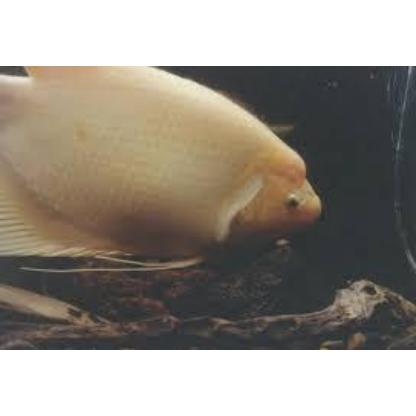gurame: (0, 64, 324, 263)
